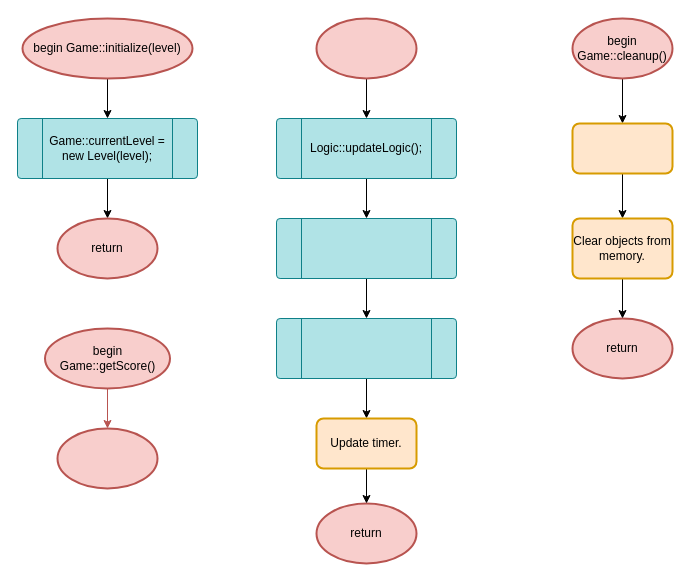
The diagram is 691 pixels wide and 581 high, and some of its shapes have lost their labels. The box of each missing label's shape, as (x1, y1, x2, y2) in pixels:
begin Game::update(): (315, 17, 417, 79)
Graphics::render(): (276, 218, 456, 278)
return this->score: (56, 427, 158, 489)
UIManager::renderUI();: (276, 318, 456, 378)
Write data to save file.: (571, 122, 673, 174)
